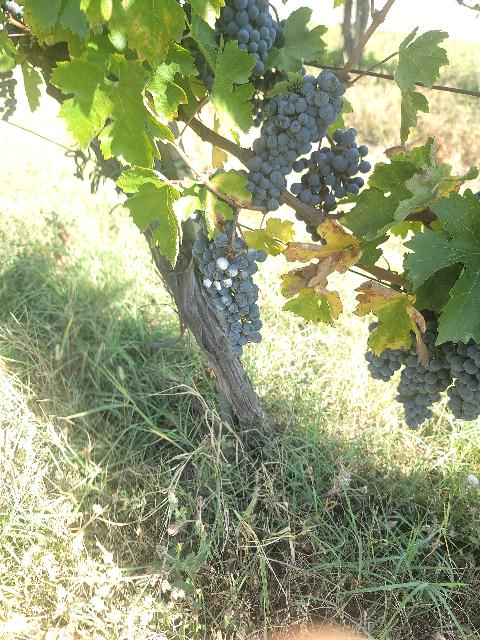grapes: (246, 70, 345, 211), (194, 231, 266, 356), (396, 309, 455, 429), (290, 129, 370, 211), (222, 0, 284, 76), (442, 340, 480, 421), (365, 350, 402, 382), (0, 70, 18, 120)
